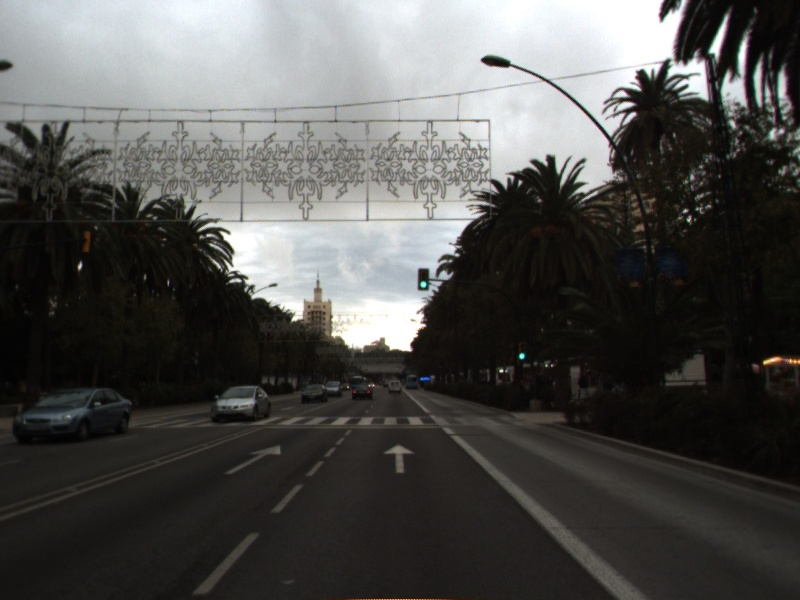STRAIGHT: (222, 442, 283, 476), (381, 442, 418, 475)
